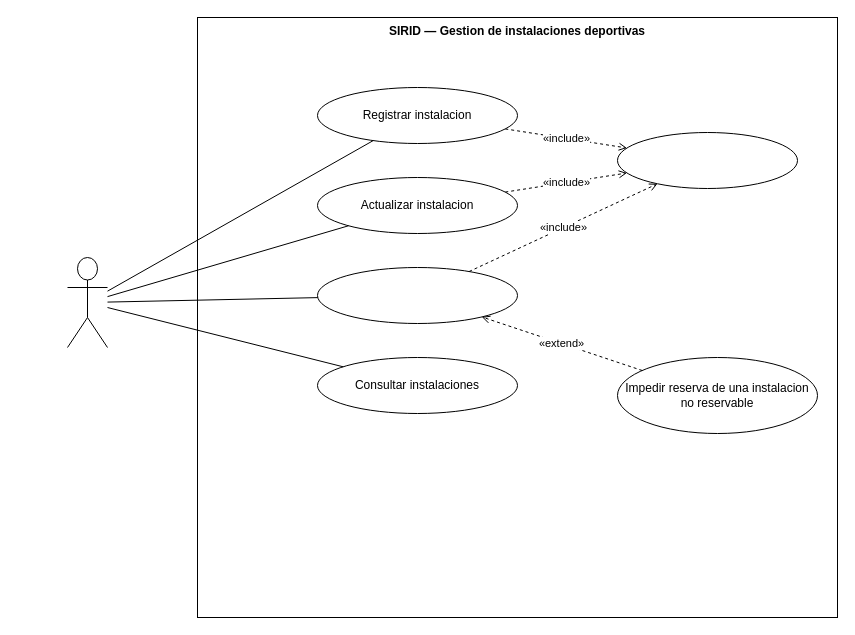
This 855x635 diagram has some shape labels left out. Each missing label, with the centre of its shape:
"Desactivar instalacion" belongs at (x=417, y=295).
"Encargado / Administrador" belongs at (x=87, y=302).
"Validar datos" belongs at (x=707, y=160).
